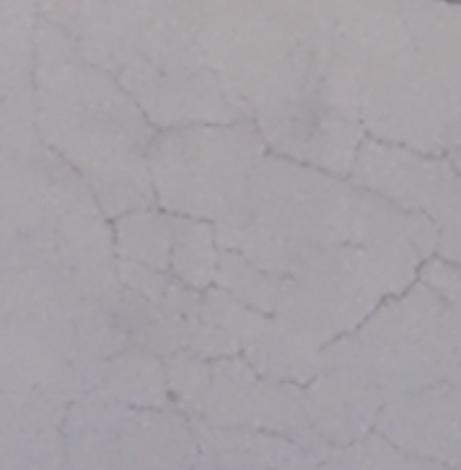fissura: (23, 21, 461, 372)
